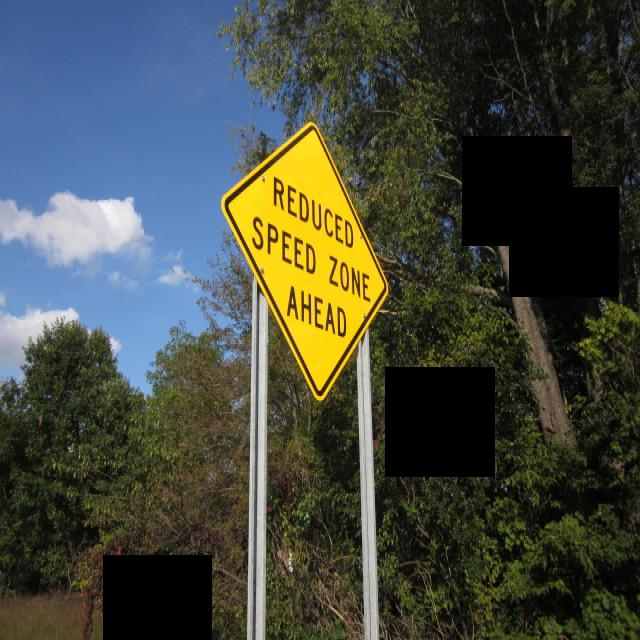warning: (218, 106, 392, 408)
